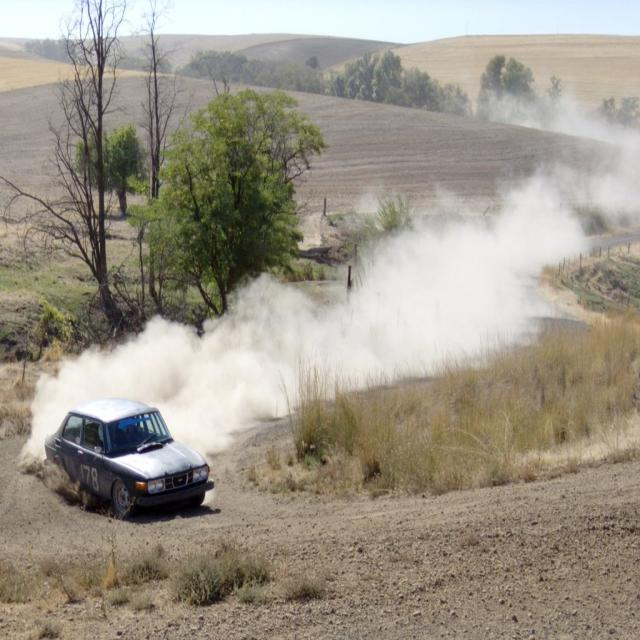car: (42, 399, 207, 521)
